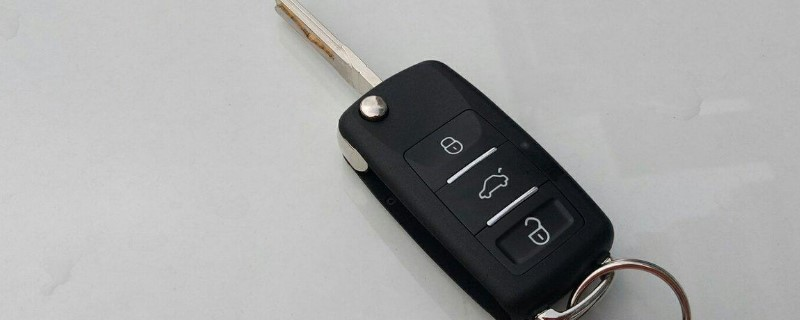key: (264, 2, 623, 320)
